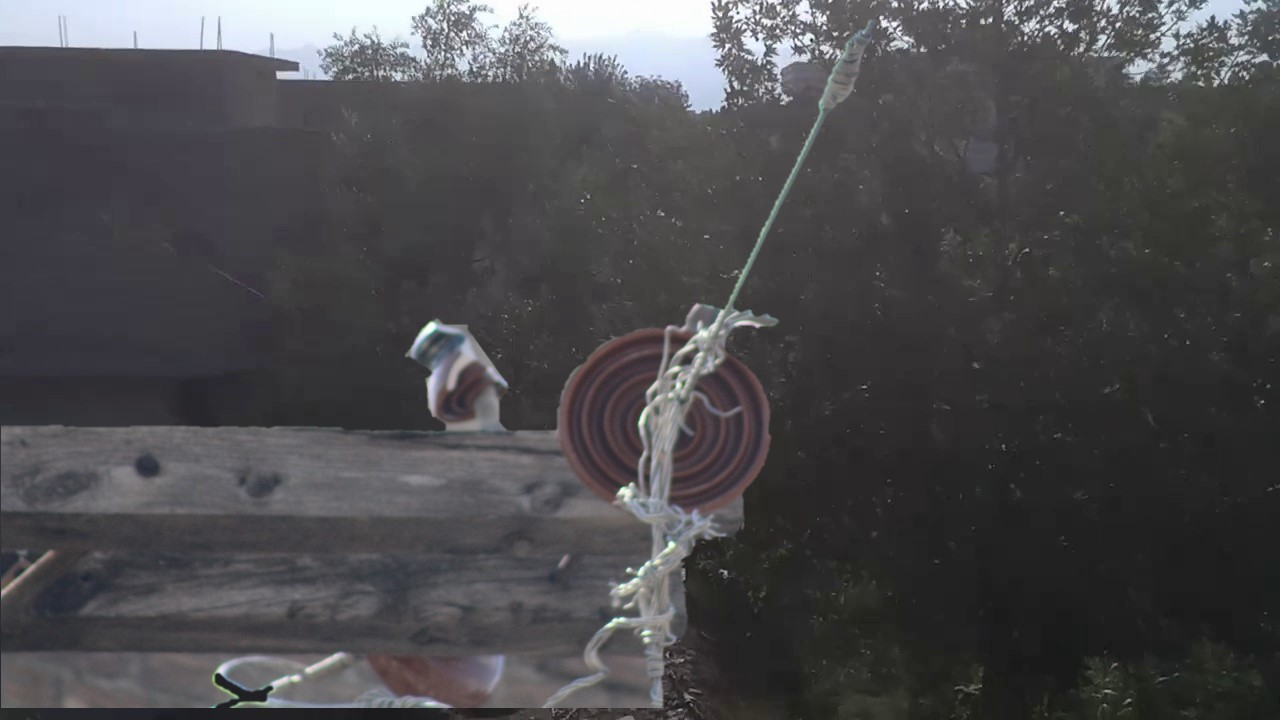defect_pin: (399, 310, 514, 431)
insulator_disc: (552, 320, 779, 521)
